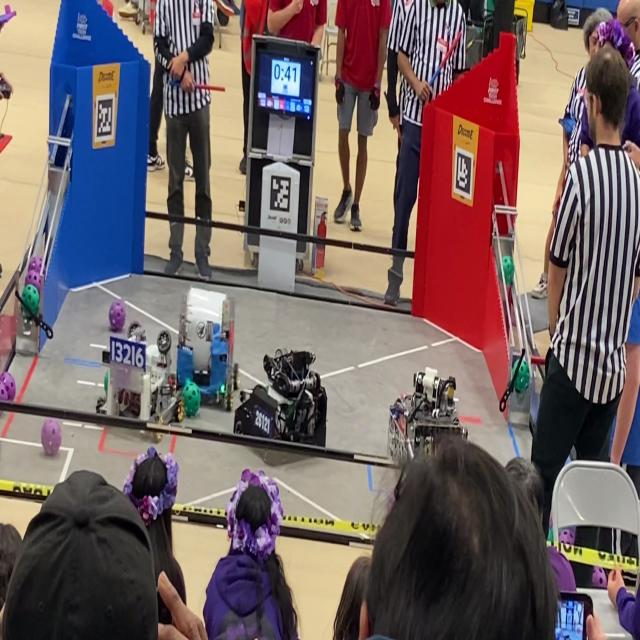artifact_green: (183, 382, 201, 417), (22, 284, 39, 318), (512, 361, 530, 393), (0, 372, 15, 401), (502, 256, 514, 286), (520, 361, 530, 391), (547, 526, 553, 543), (104, 371, 108, 393)
artifact_purple: (41, 419, 61, 456), (108, 301, 125, 332), (0, 372, 15, 401), (25, 270, 42, 294), (593, 567, 607, 589), (560, 528, 575, 545), (28, 256, 42, 272), (0, 382, 8, 401)
